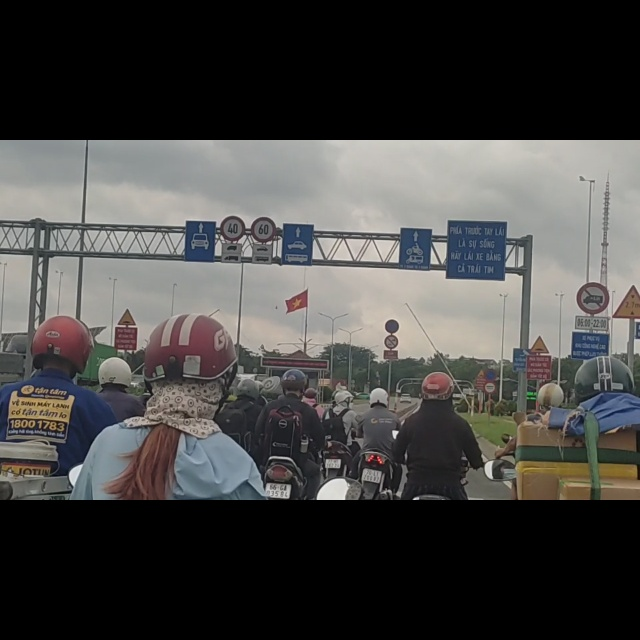bien_chi_dan: (576, 252, 610, 311), (613, 258, 640, 321), (219, 135, 245, 180), (251, 137, 276, 183), (116, 299, 139, 331), (513, 370, 528, 414), (530, 347, 550, 380), (385, 319, 399, 344), (385, 347, 399, 372), (483, 429, 496, 450), (485, 408, 497, 429), (476, 405, 485, 424)
